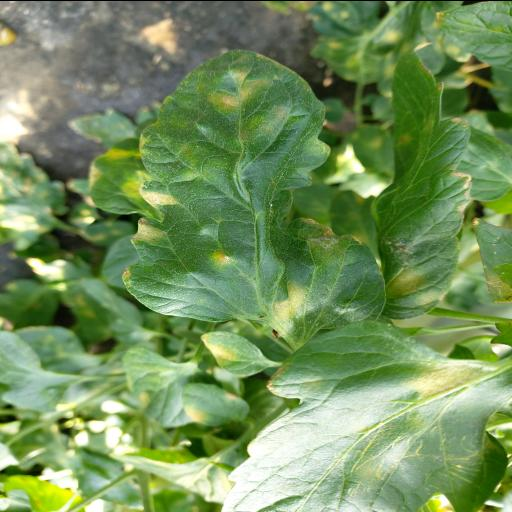disease_tomato: (122, 48, 384, 336), (221, 320, 508, 512), (329, 42, 473, 318)
